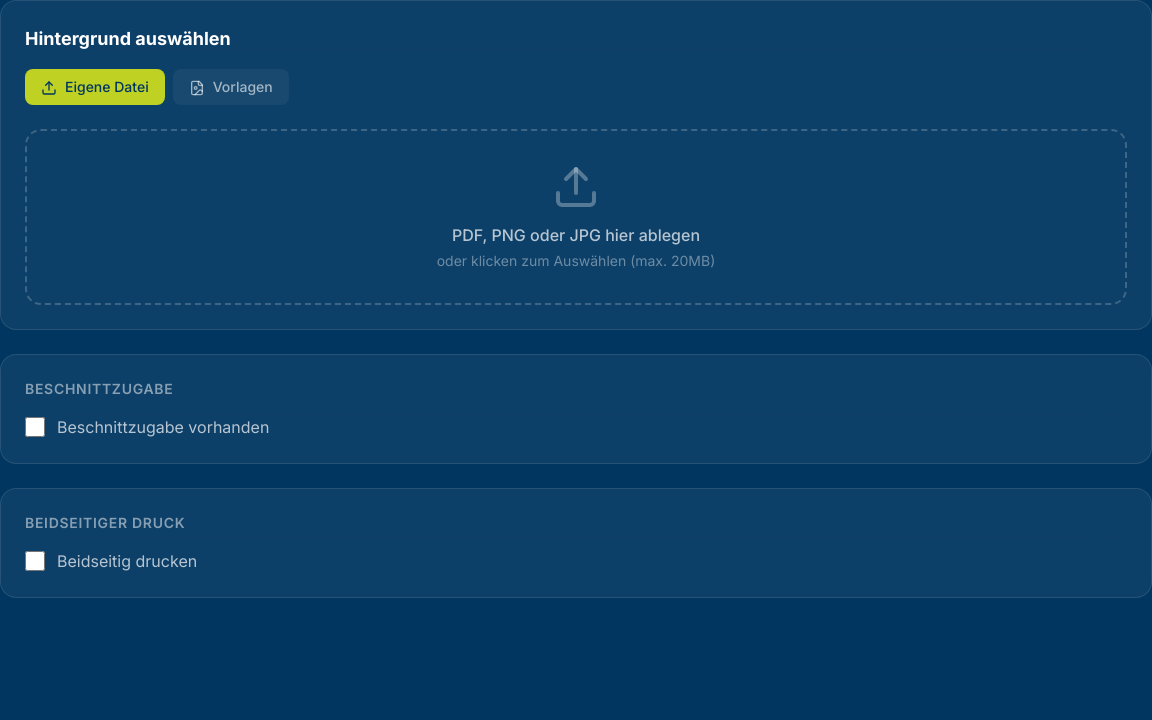
Scenario: BackgroundSelector › Beidseitig-Checkbox zeigt Upload-Feld
The image size is (1152, 720).
Click the checkbox labelled "Beidseitig drucken": click(35, 561) x1=25 y1=551 x2=45 y2=571
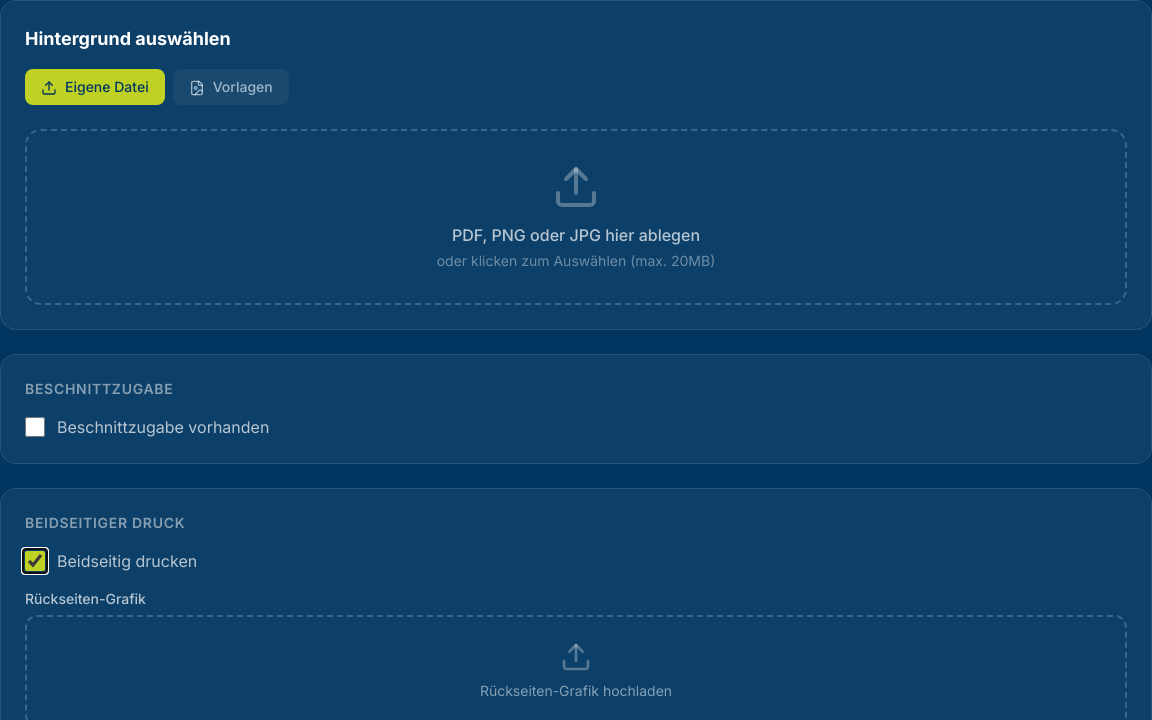
Now the text "Rückseiten-Grafik hochladen" is shown, box x1=480 y1=681 x2=672 y2=701
